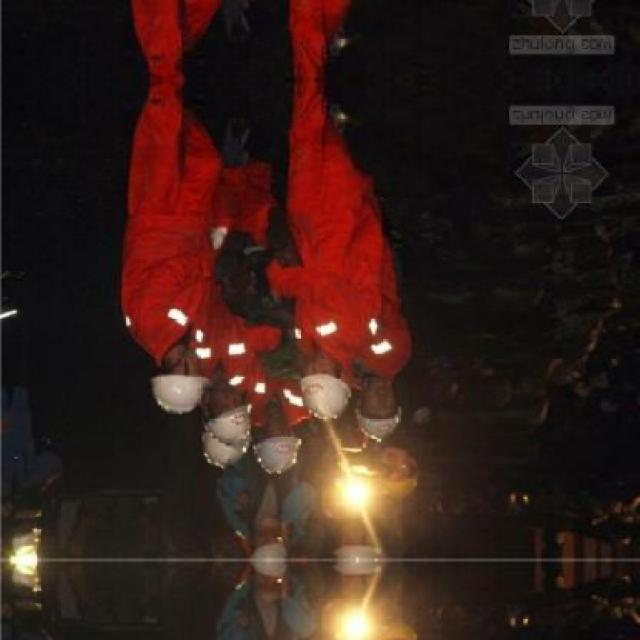con casco: (189, 366, 289, 464), (126, 335, 236, 416), (232, 415, 334, 472), (333, 380, 416, 447), (284, 354, 361, 418)
